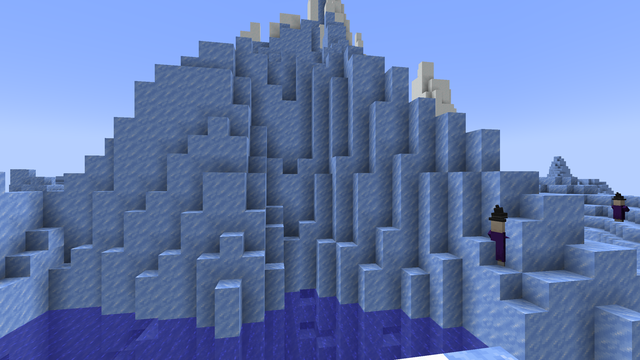sorcieres: (488, 217, 506, 266), (611, 198, 625, 221)
